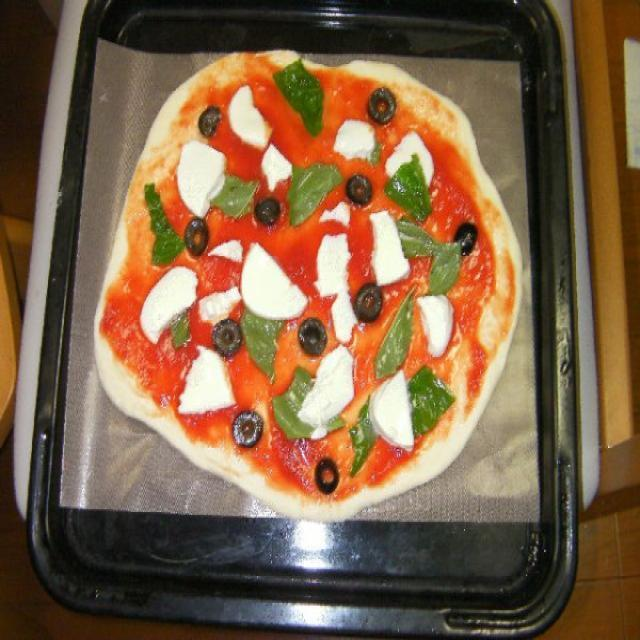Pizza: (88, 42, 530, 520)
